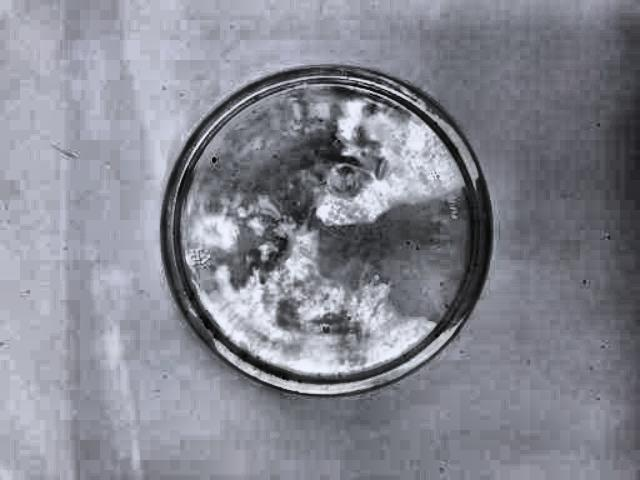Plastic: (157, 57, 498, 397)
